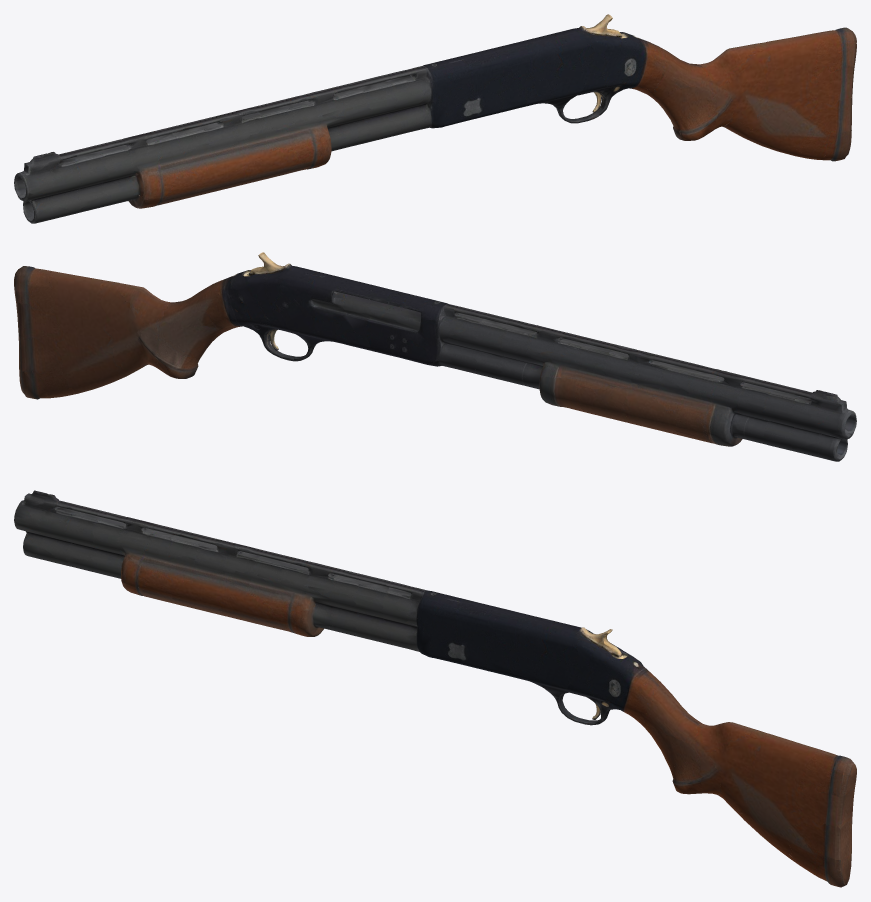
Rendered from wp_shotgun.glb.
The picture shows the model from 3 angles, top to bottom: view 1: azimuth 30°, elevation 25°; view 2: azimuth 150°, elevation 25°; view 3: azimuth 330°, elevation 25°; orthographic projection.
Parts seen in each view (by area): view 1: mesh_node; view 2: mesh_node; view 3: mesh_node.
Part boxes in pixels (x1,y1,x2,y2): mesh_node: (14,14,856,223); mesh_node: (14,252,856,461); mesh_node: (14,490,856,887).
Bounding box in the file's own units: 1.9 × 0.4358 × 0.1065.
Materials: 1 (1 with a texture image).
